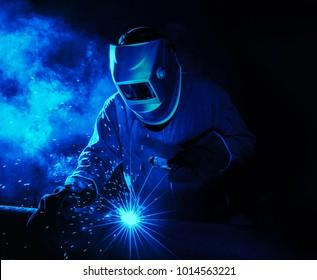gloves: (164, 131, 234, 180)
